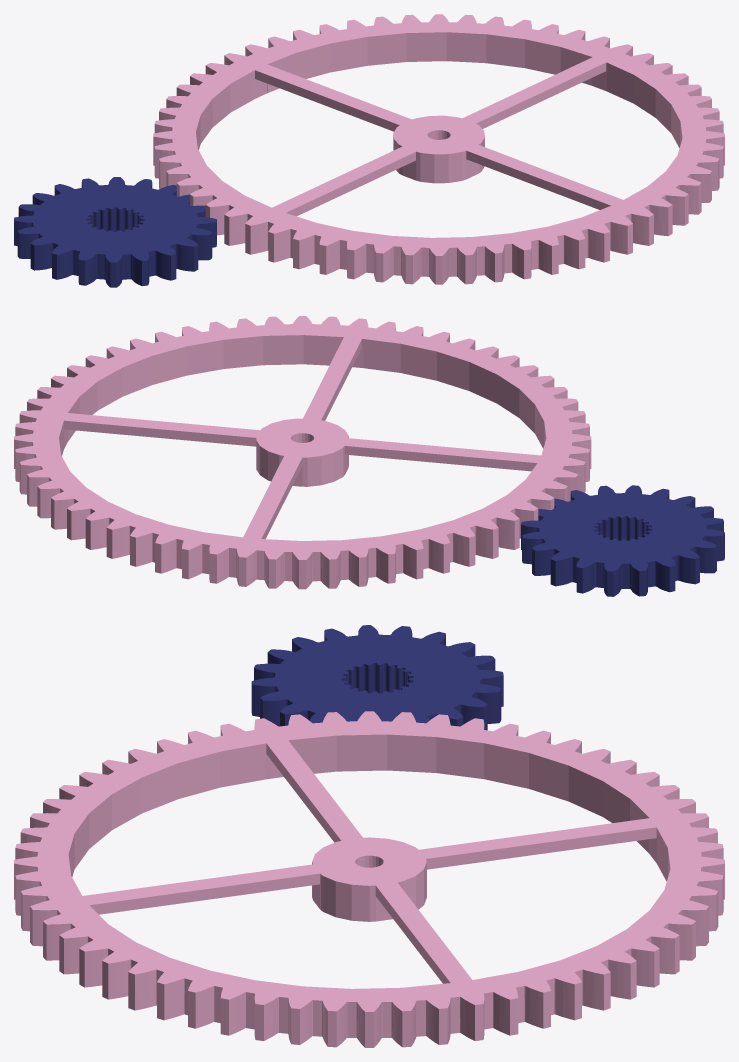
The model's file is tinker.obj.
3 views of the same model, one above another, from view 1: azimuth 30°, elevation 25°; view 2: azimuth 150°, elevation 25°; view 3: azimuth 270°, elevation 25° (orthographic). The views are drawn at different scales.
Parts seen in each view (by area): view 1: group_0_15708628, group_0_3356795; view 2: group_0_15708628, group_0_3356795; view 3: group_0_15708628, group_0_3356795.
Boxes of the visible parts, <box> form: group_0_15708628: <box>153,14,724,284</box>; group_0_3356795: <box>14,177,216,287</box>; group_0_15708628: <box>14,316,591,589</box>; group_0_3356795: <box>521,485,724,596</box>; group_0_15708628: <box>14,711,724,1047</box>; group_0_3356795: <box>251,625,503,730</box>.
Size of the model in its own units: 164 by 8.14 by 124.
